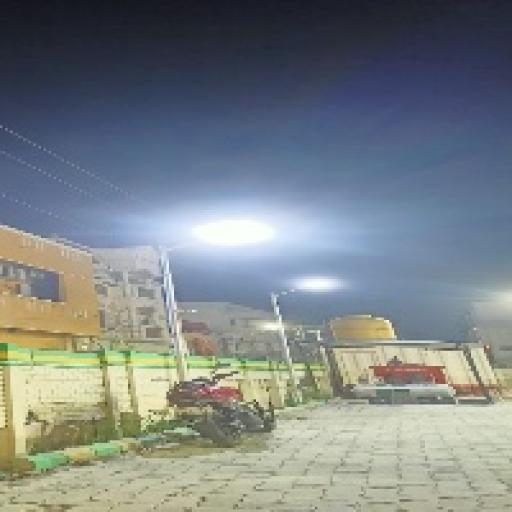Working: (292, 275, 341, 299)
